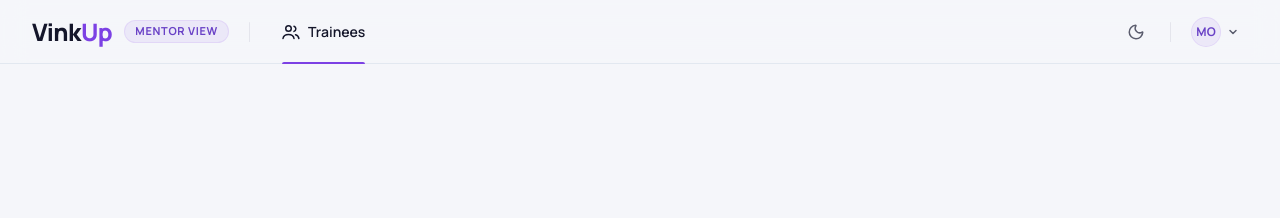
Scenario: AdminHeader › renders the app name, the Mentor view badge and the mentor name
The image size is (1280, 218).
Expected: the link "VinkUp" is shown, 32,14 -> 112,50
Expected: the text "Mentor view" is shown, 124,20 -> 229,43
Click the button with aria-label "Account menu" at (1218, 32), box 1187,12 -> 1248,50
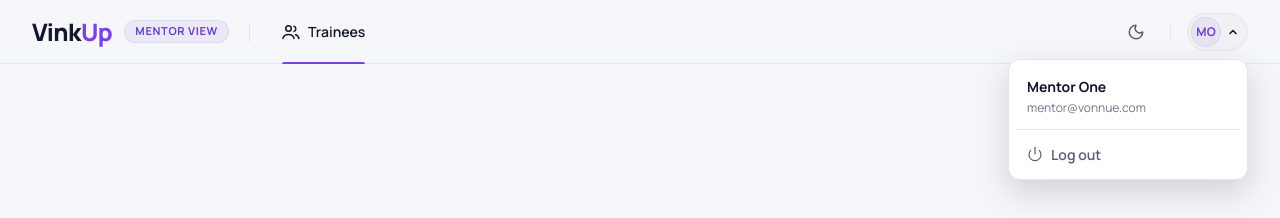
Now the text "Mentor One" is shown, box 1027,76 -> 1106,96
